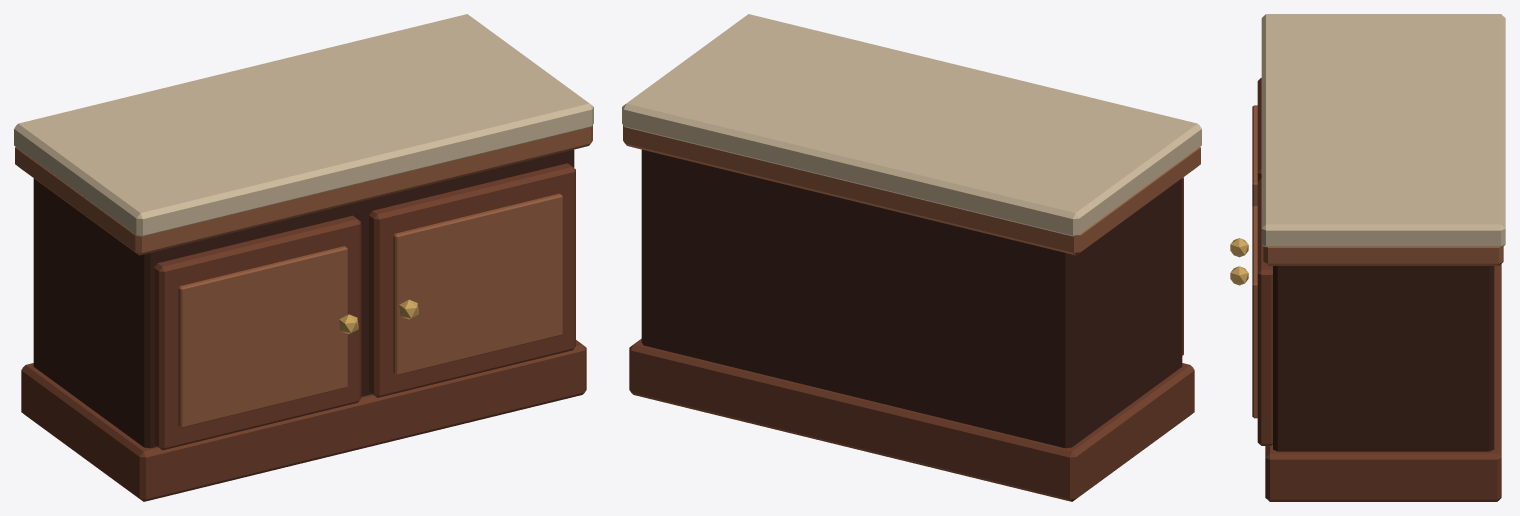
File: planting_counter.glb
The picture shows the model from 3 angles, left to right: view 1: azimuth 30°, elevation 25°; view 2: azimuth 150°, elevation 25°; view 3: azimuth 270°, elevation 25°; orthographic projection. The views are drawn at different scales.
Visible parts, largest first — view 1: Worktop, Body, Plinth, Inset_00, Inset_01, Front_00, Front_01, Top; view 2: Body, Worktop, Plinth, Top; view 3: Worktop, Body, Plinth, Top, Front_01, Inset_01, Inset_00, Front_00.
Part boxes in pixels (x1,y1,x2,y2): Worktop: (14,14,593,236); Body: (33,149,574,448); Plinth: (21,340,586,501); Inset_00: (178,246,347,427); Inset_01: (393,193,562,375); Front_00: (154,215,361,450); Front_01: (369,163,575,397); Top: (15,125,592,255); Body: (641,149,1182,448); Worktop: (622,14,1201,236); Plinth: (629,338,1194,501); Top: (623,125,1200,255); Worktop: (1261,14,1505,247); Body: (1273,266,1494,451); Plinth: (1265,264,1501,501); Top: (1263,246,1503,265); Front_01: (1257,178,1272,445); Inset_01: (1252,206,1257,418); Inset_00: (1252,105,1257,206); Front_00: (1257,78,1261,181).
Size of the model in its own units: 1.33 by 0.81 by 0.7218.
